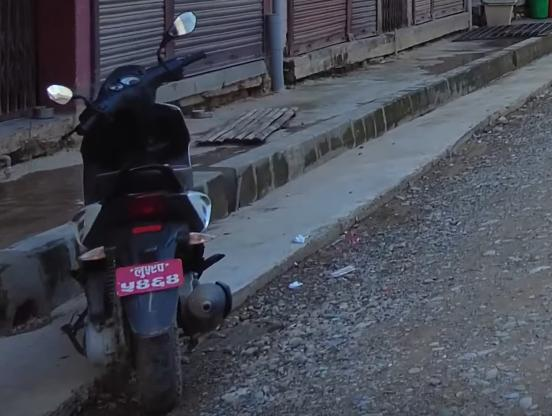scooter: (40, 11, 235, 416)
